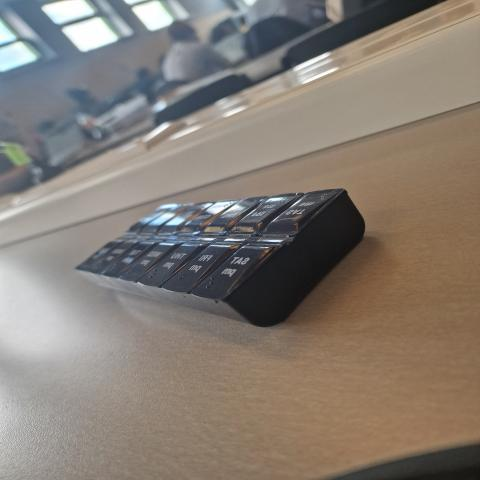Pill-box: (50, 116, 405, 365)
